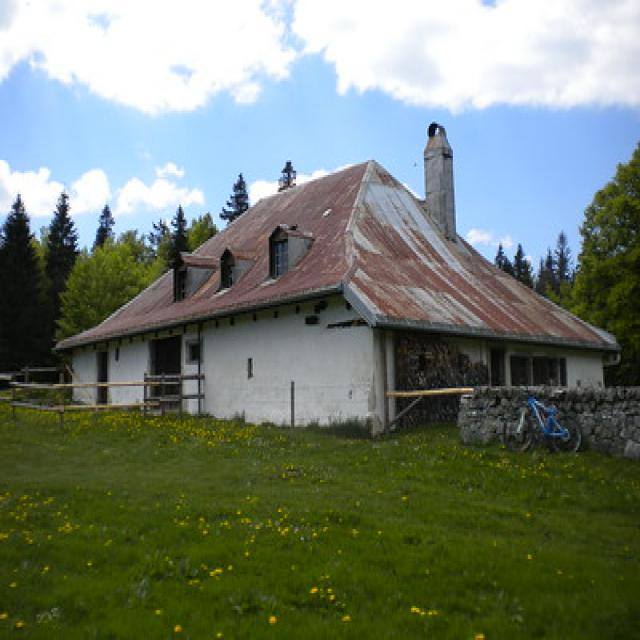Normal_building: (52, 119, 622, 438)
